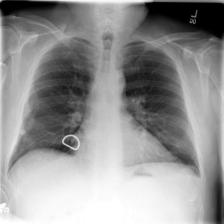normal: (7, 30, 203, 186)
